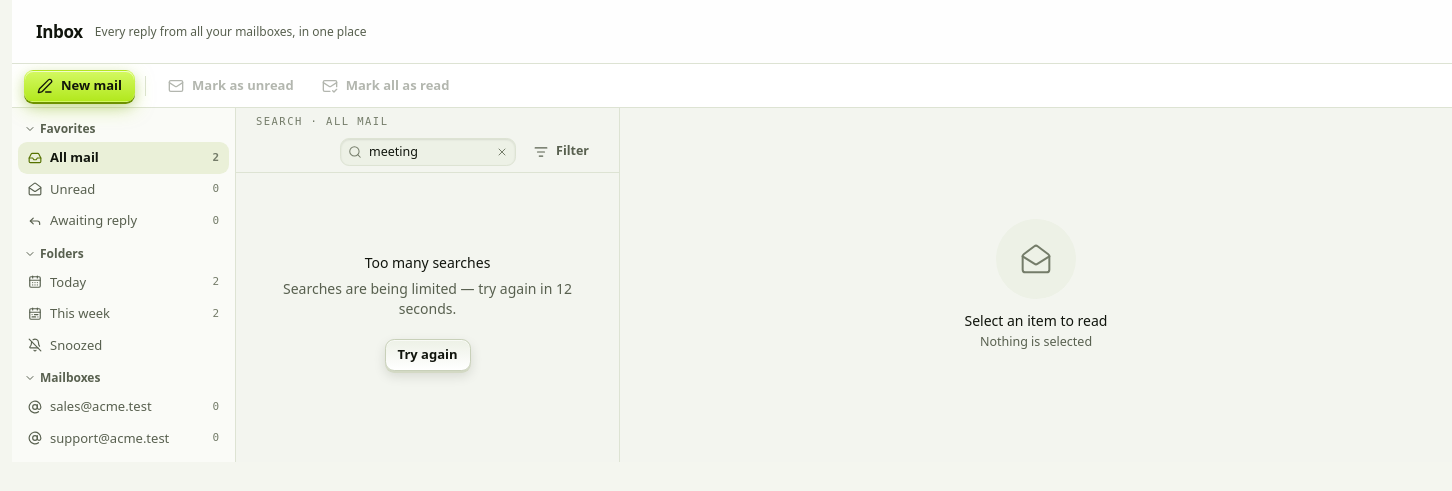
it: a throttled search (429) names the Retry-After delay and can be retried
Expected: the text "Too many searches" shows "try again in 12 seconds", [283,279,572,318]
Click the button "Try again". click: {"x": 428, "y": 355}
box: [384,339,470,371]
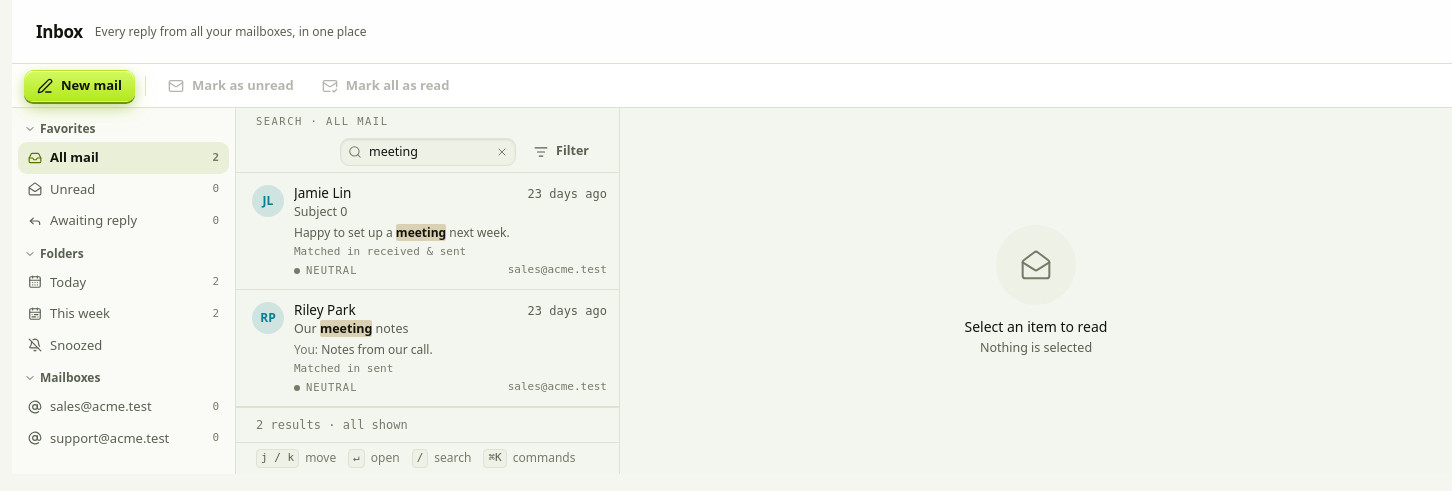
Expected: the text "Jamie Lin" is shown, [294,184,351,202]
